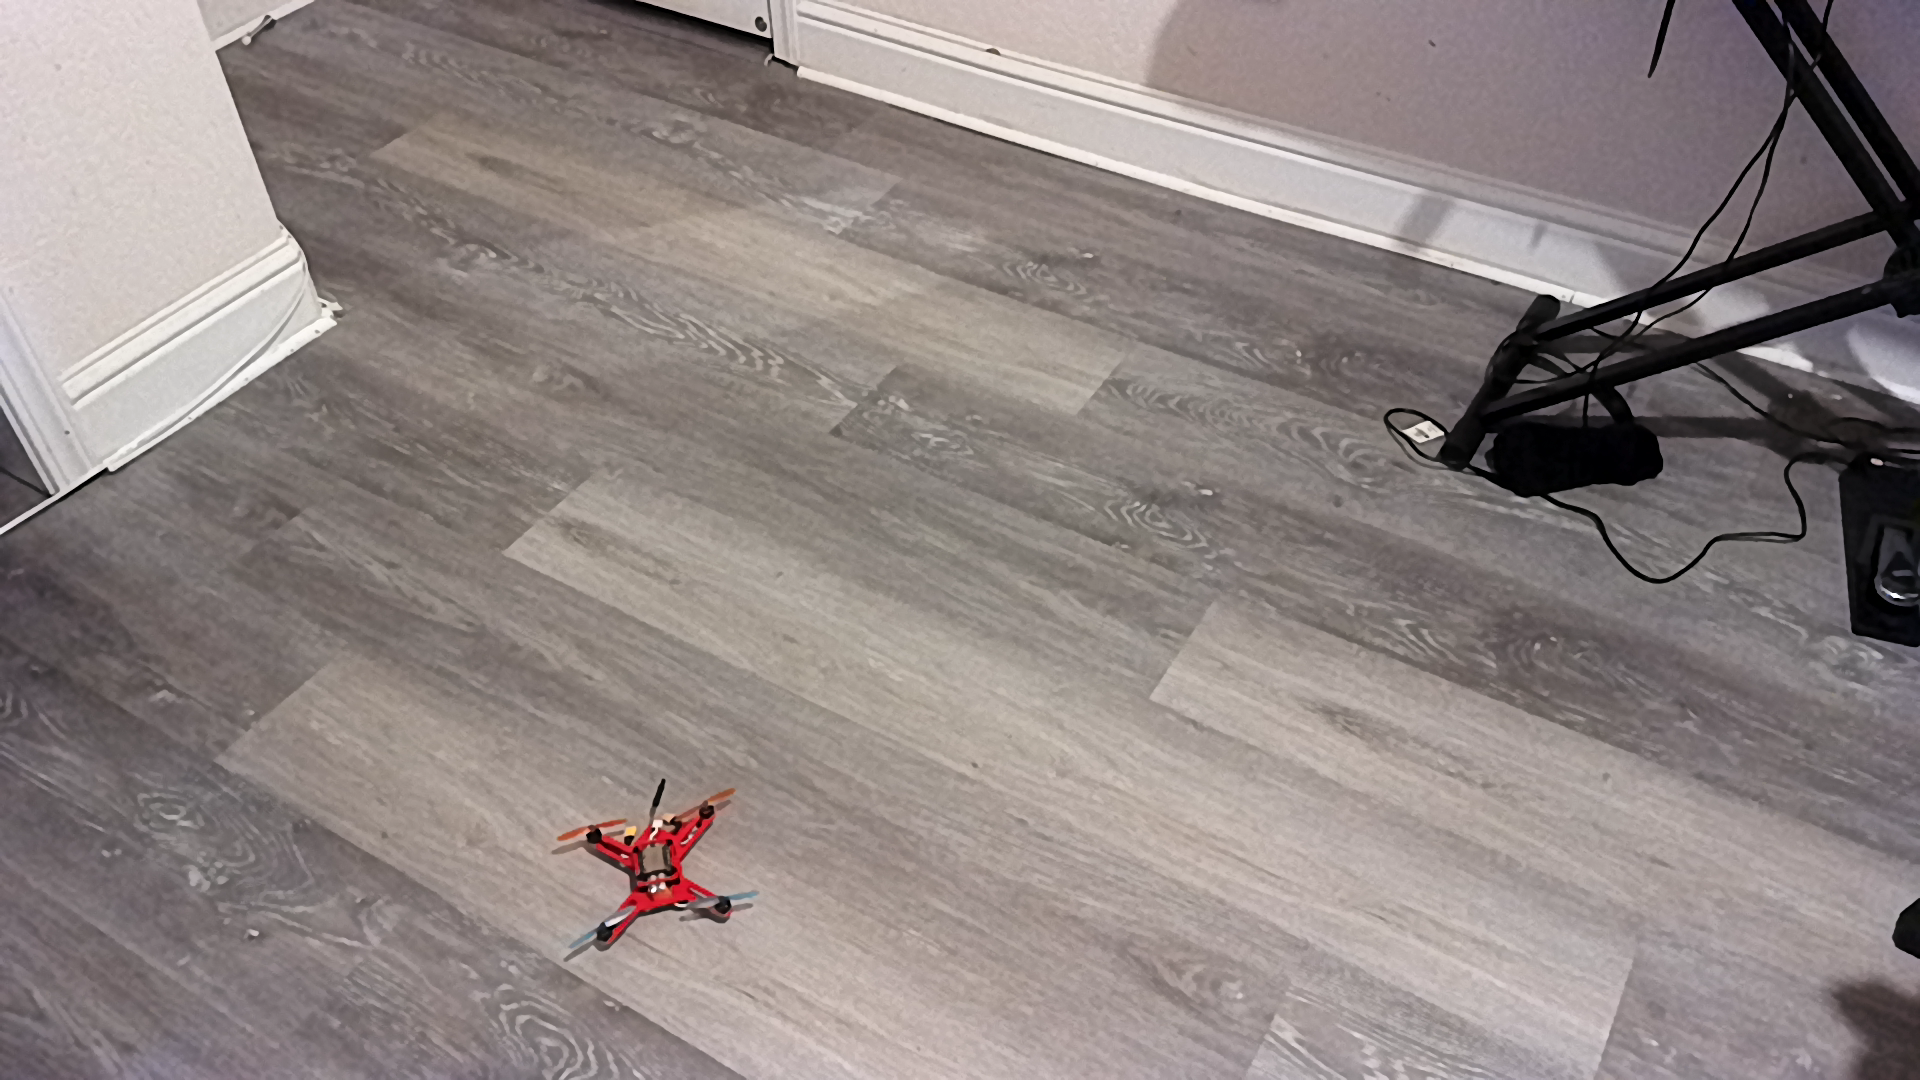drone: (549, 773, 786, 967)
